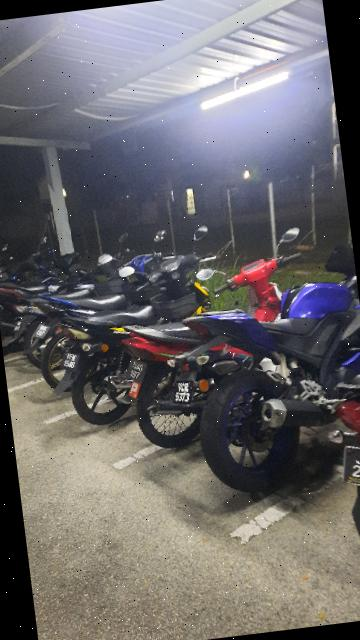License_Plate: (166, 372, 205, 416), (337, 441, 360, 503), (121, 355, 156, 389), (59, 346, 88, 377)
motorcycle: (106, 215, 333, 467), (176, 238, 360, 494), (58, 208, 231, 429), (20, 230, 191, 401)
